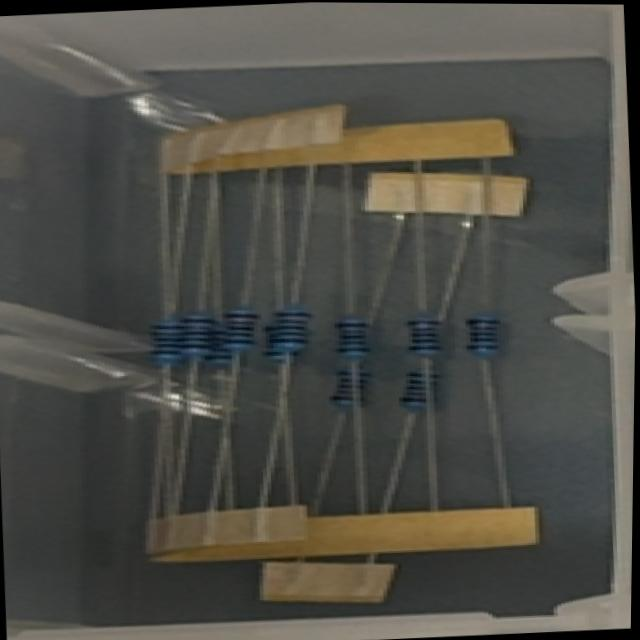Resistor: (462, 312, 504, 361), (327, 365, 374, 408), (399, 370, 443, 413), (406, 313, 447, 356), (273, 306, 313, 350), (151, 317, 188, 364), (221, 308, 261, 351), (201, 319, 235, 368), (334, 316, 373, 358), (180, 310, 216, 355), (264, 323, 302, 363)
